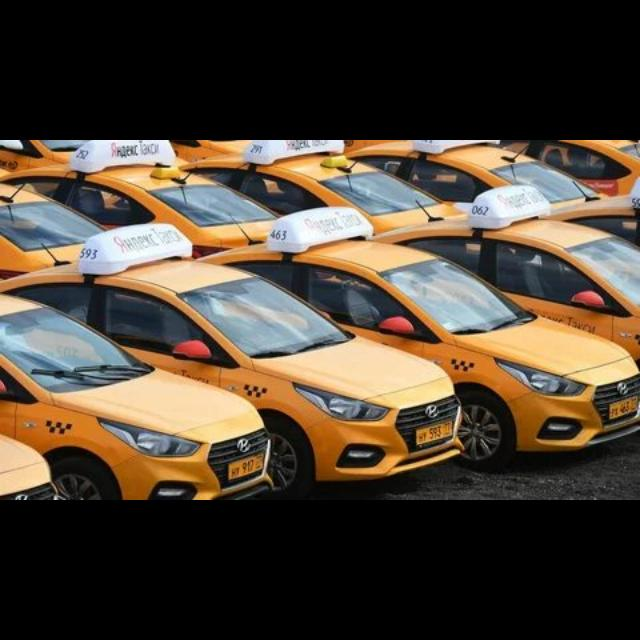taxi: (2, 222, 467, 499), (195, 204, 640, 473), (2, 292, 275, 500)
